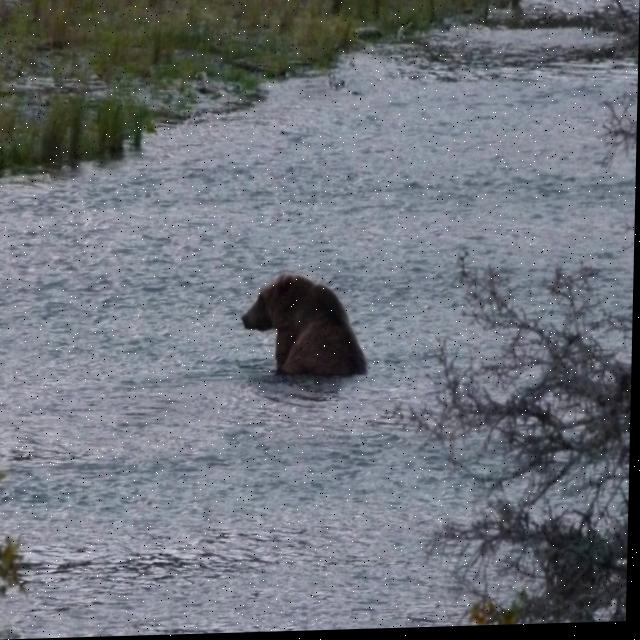bear face: (238, 275, 366, 374)
